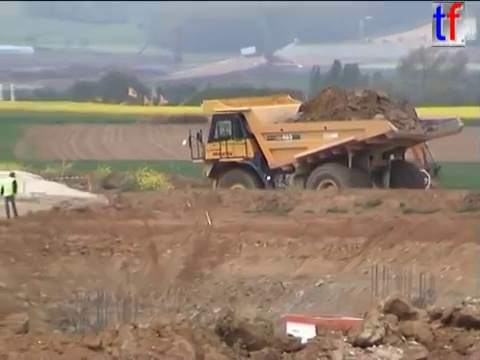excavator: (244, 97, 445, 206)
truck: (179, 90, 466, 216)
worker: (1, 169, 22, 223)
